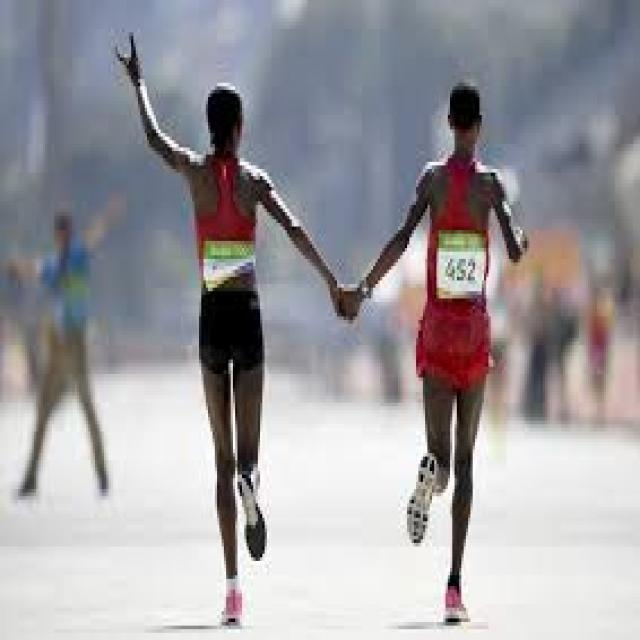running: (108, 27, 354, 640), (343, 81, 532, 624)
